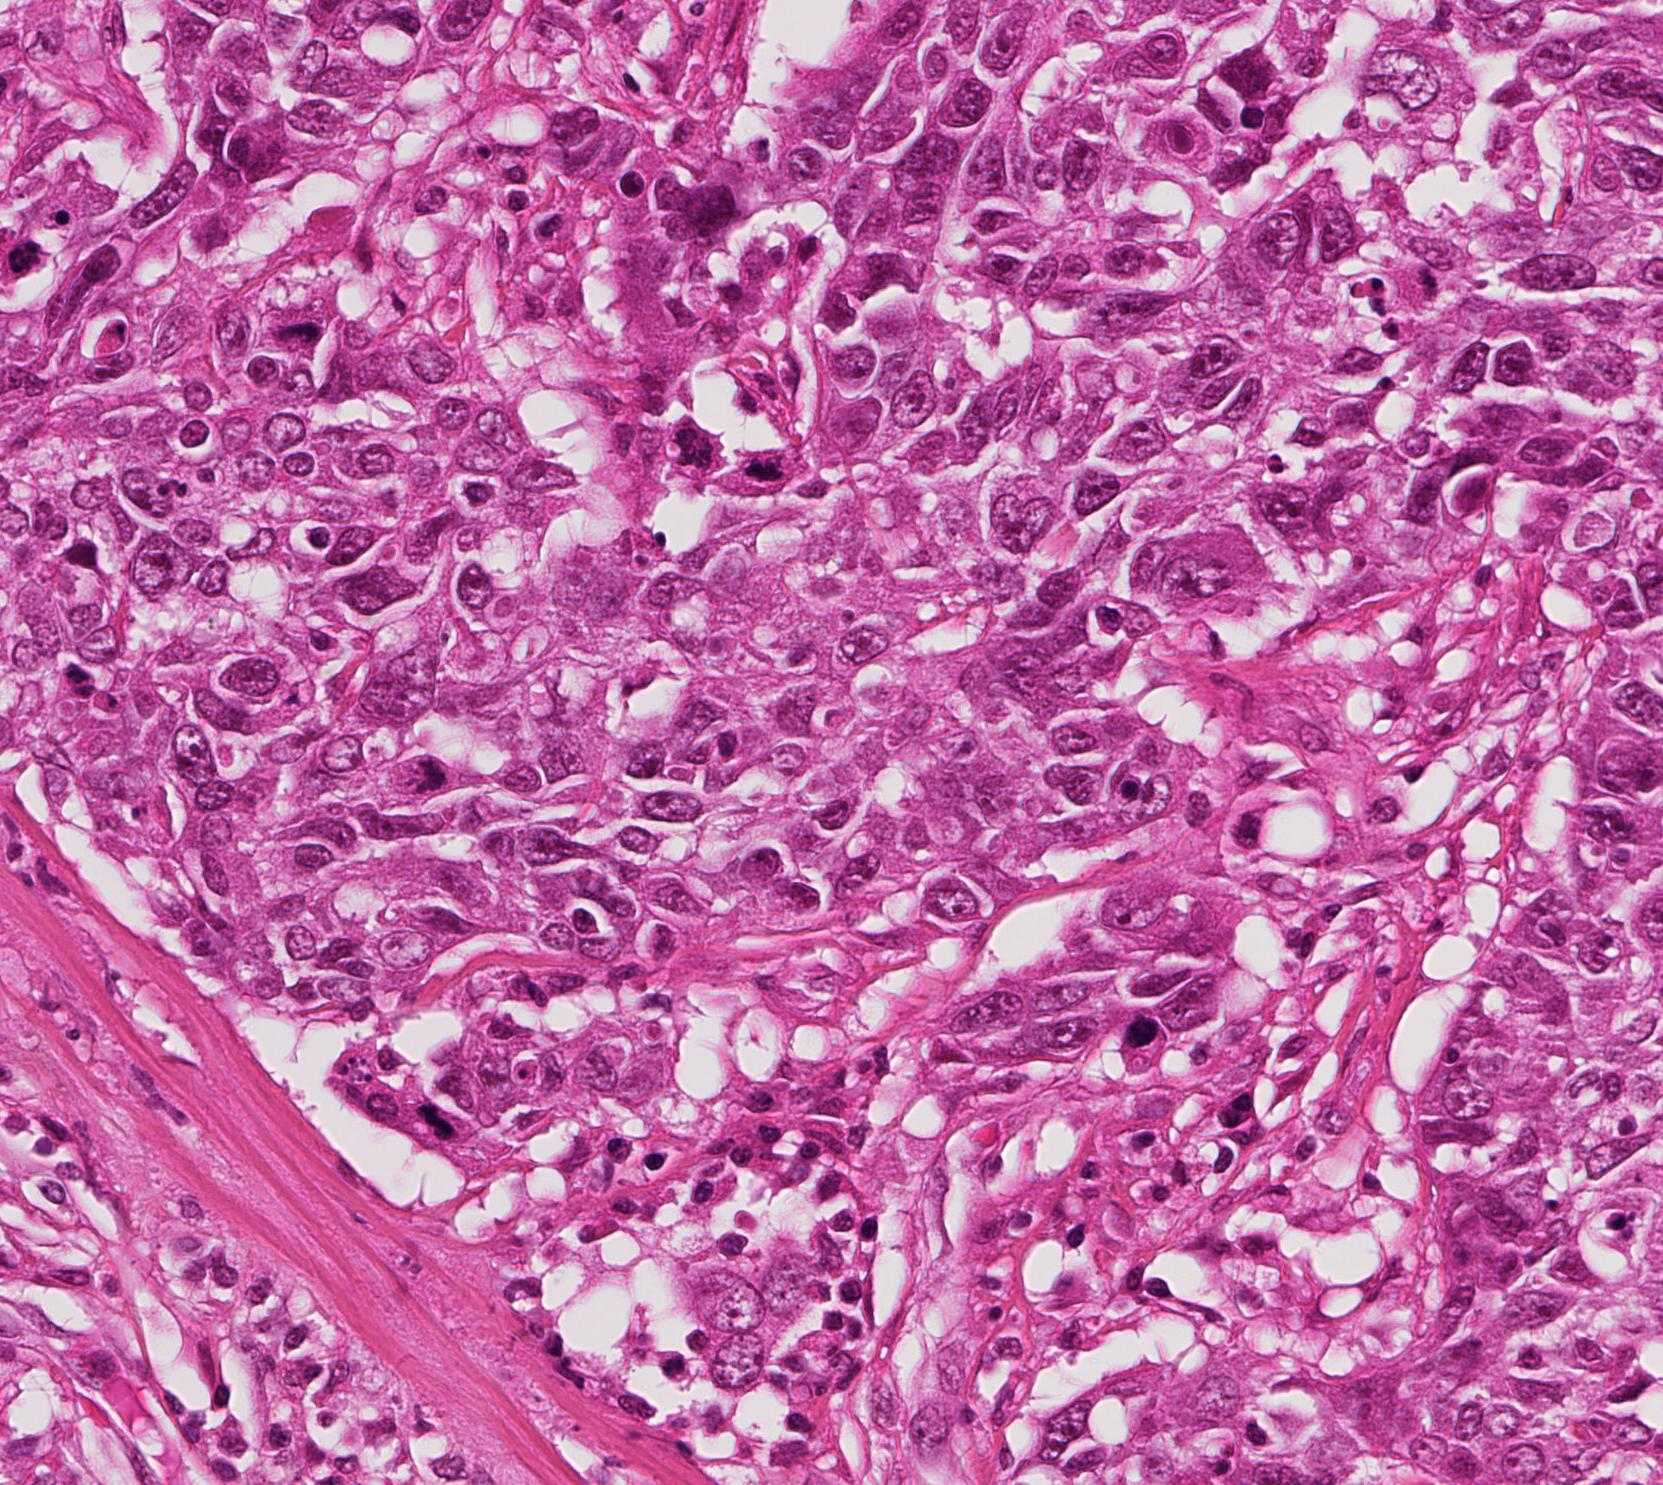mitosis: (262, 302, 323, 363), (401, 742, 462, 803), (747, 433, 807, 493)
